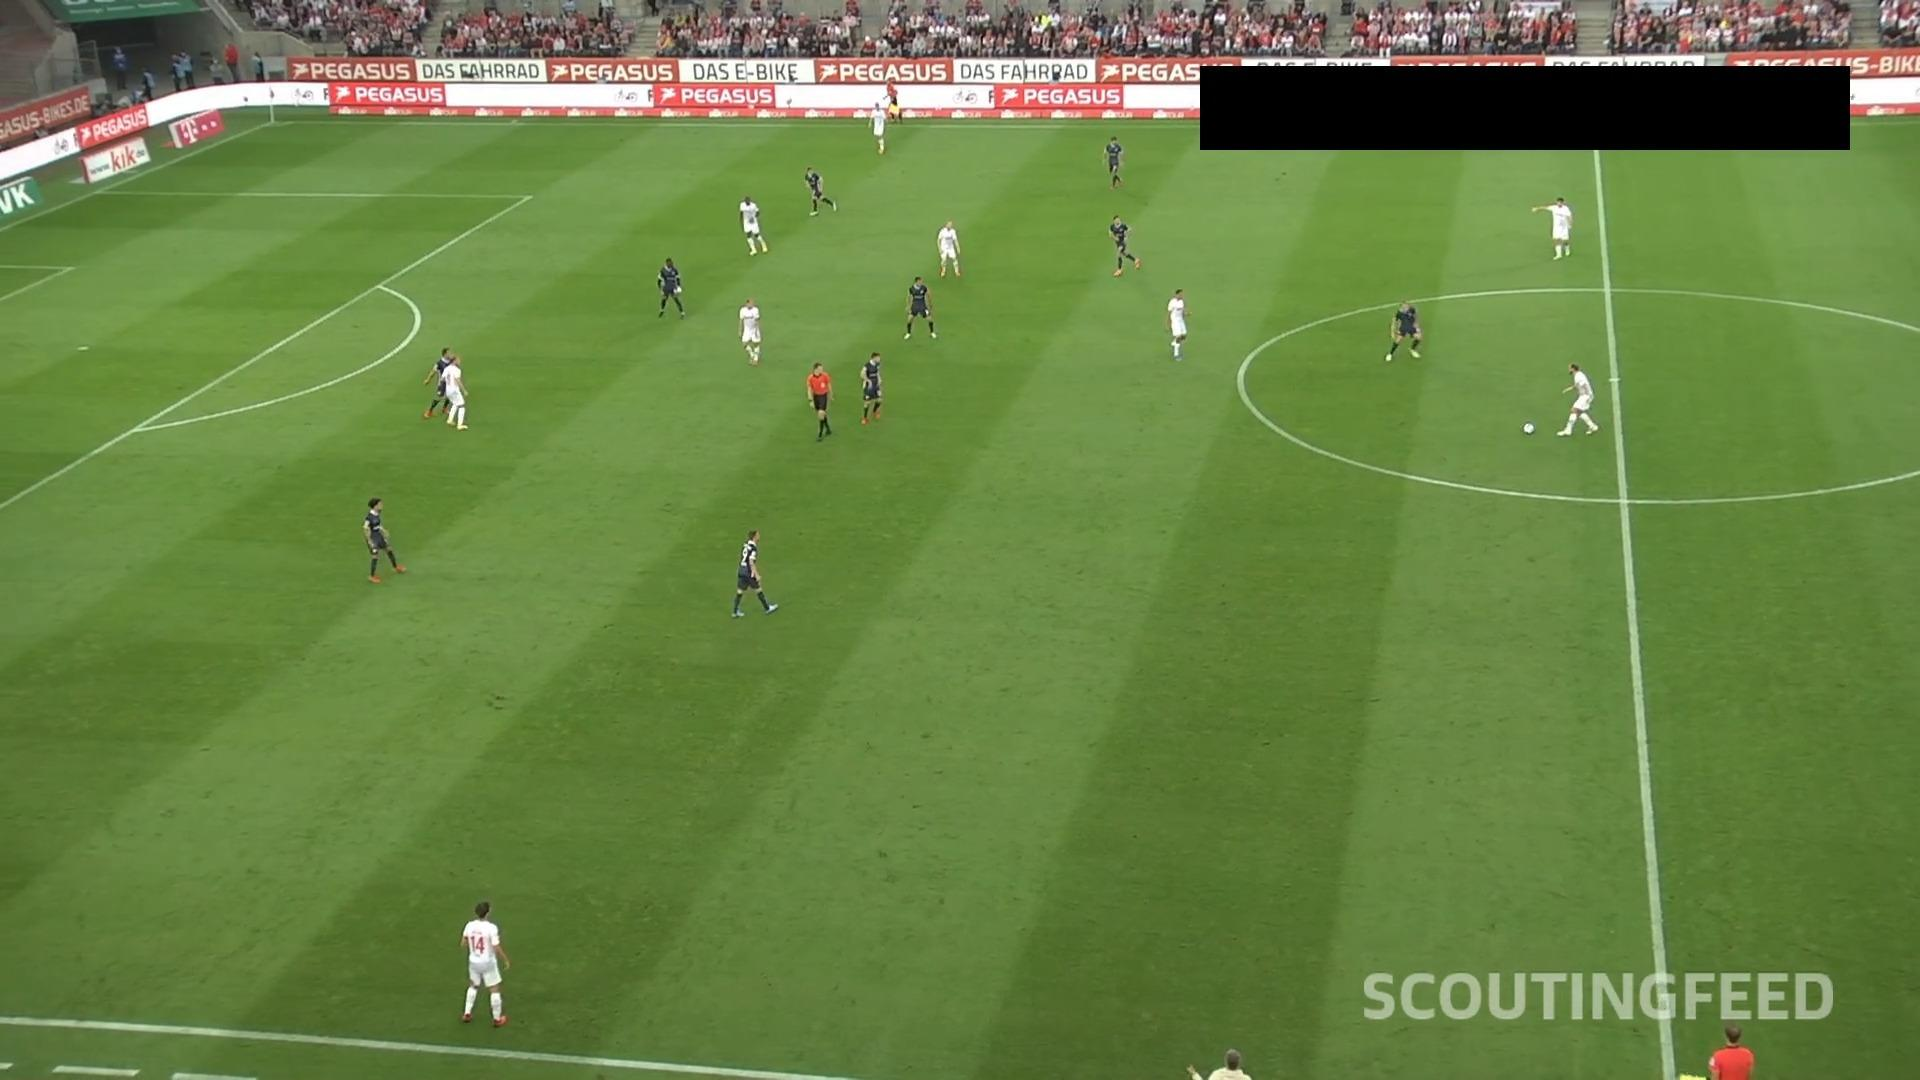ball: (1520, 421, 1536, 436)
